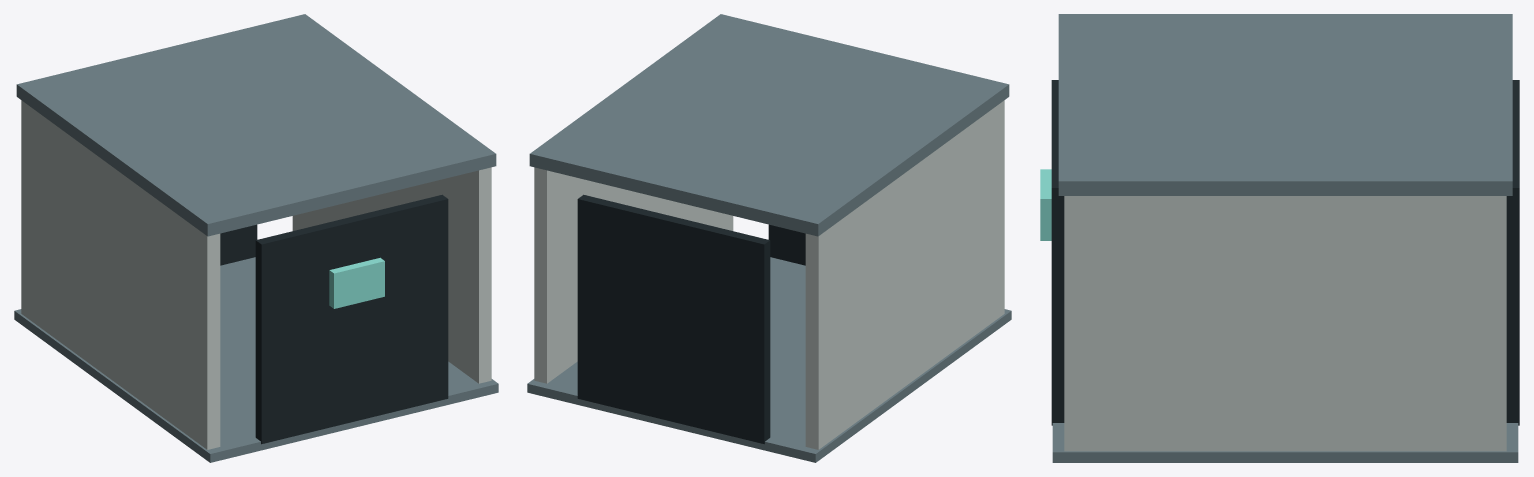
The model's file is lunar-airlock.glb.
The picture shows the model from 3 angles, left to right: view 1: azimuth 30°, elevation 25°; view 2: azimuth 150°, elevation 25°; view 3: azimuth 270°, elevation 25°; orthographic projection. The views are drawn at different scales.
Parts seen in each view (by area): view 1: roof, wall (×2), door_panel (×2), floor, window; view 2: roof, wall (×2), door_panel (×2), floor; view 3: wall, roof, door_panel (×2), floor, window.
Part boxes in pixels (x1=…): roof: x1=16, y1=14, x2=496, y2=236; wall (×2): x1=21, y1=100, x2=491, y2=449; door_panel (×2): x1=220, y1=194, x2=448, y2=444; floor: x1=14, y1=257, x2=498, y2=462; window: x1=329, y1=257, x2=384, y2=308; roof: x1=529, y1=14, x2=1009, y2=236; wall (×2): x1=534, y1=100, x2=1004, y2=449; door_panel (×2): x1=577, y1=194, x2=805, y2=444; floor: x1=527, y1=257, x2=1011, y2=462; wall: x1=1064, y1=196, x2=1506, y2=451; roof: x1=1058, y1=14, x2=1512, y2=195; door_panel (×2): x1=1051, y1=80, x2=1519, y2=425; floor: x1=1052, y1=423, x2=1518, y2=462; window: x1=1040, y1=169, x2=1051, y2=240.
Size of the model in its own units: 3.4 by 2.67 by 4.12.
